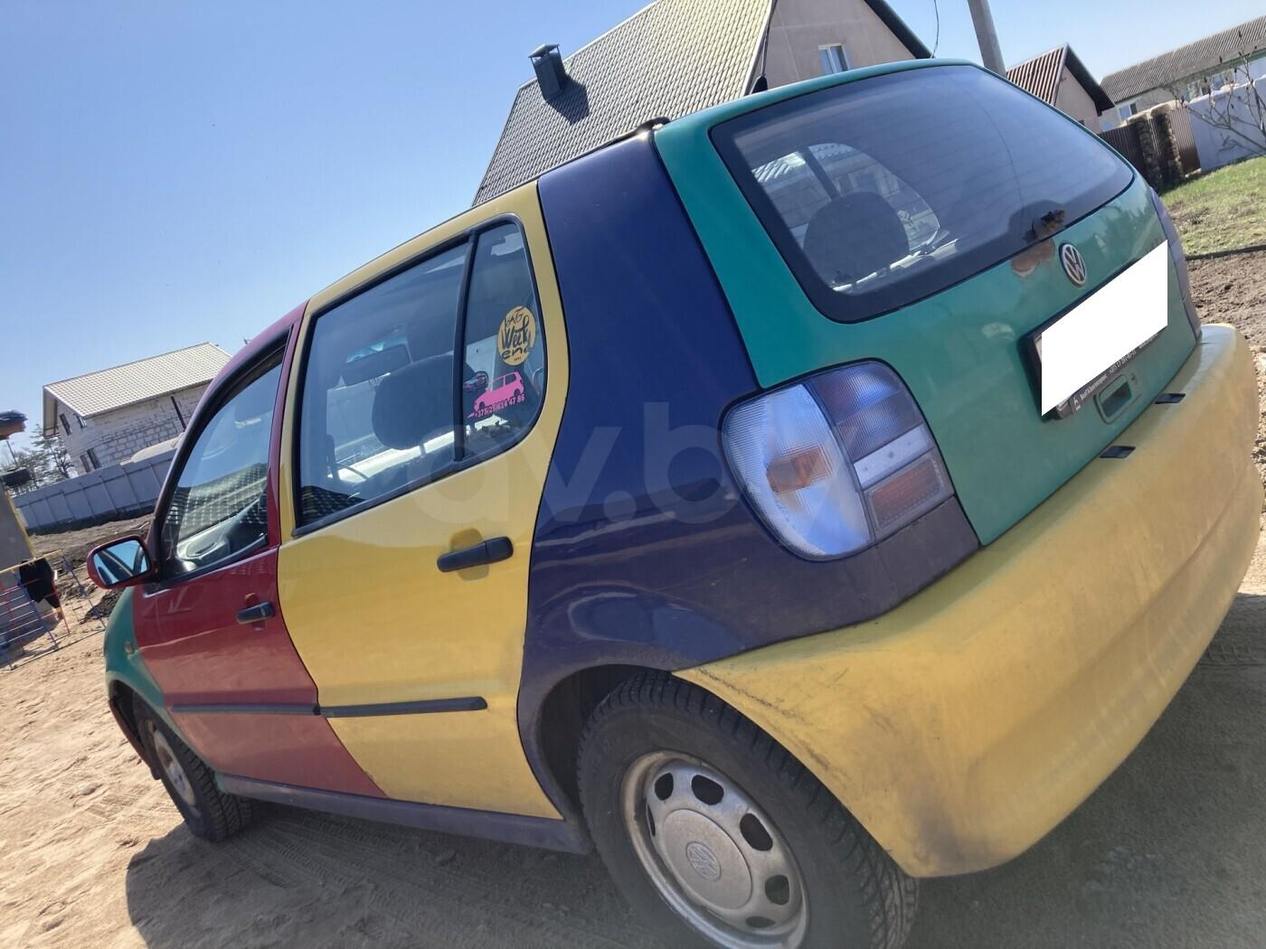Polo_1994-2002: (88, 52, 1265, 949)
